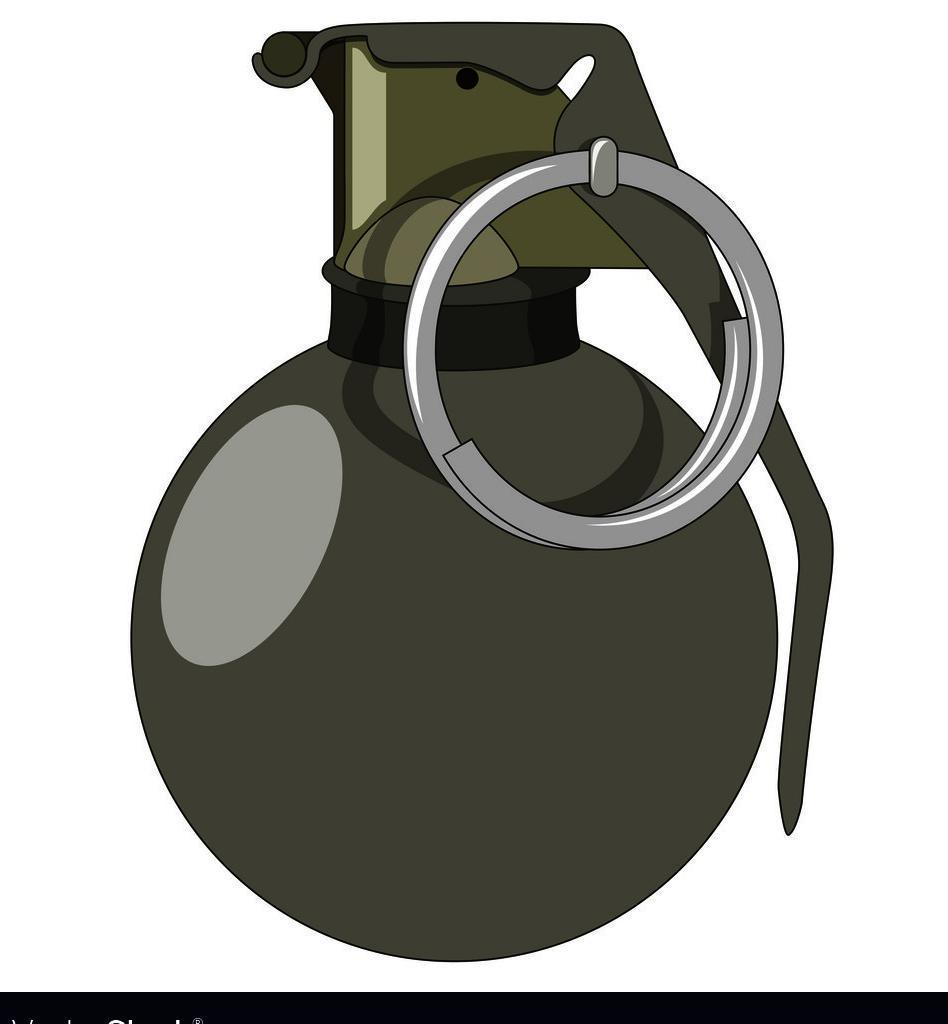Grenade: (131, 19, 833, 961)
